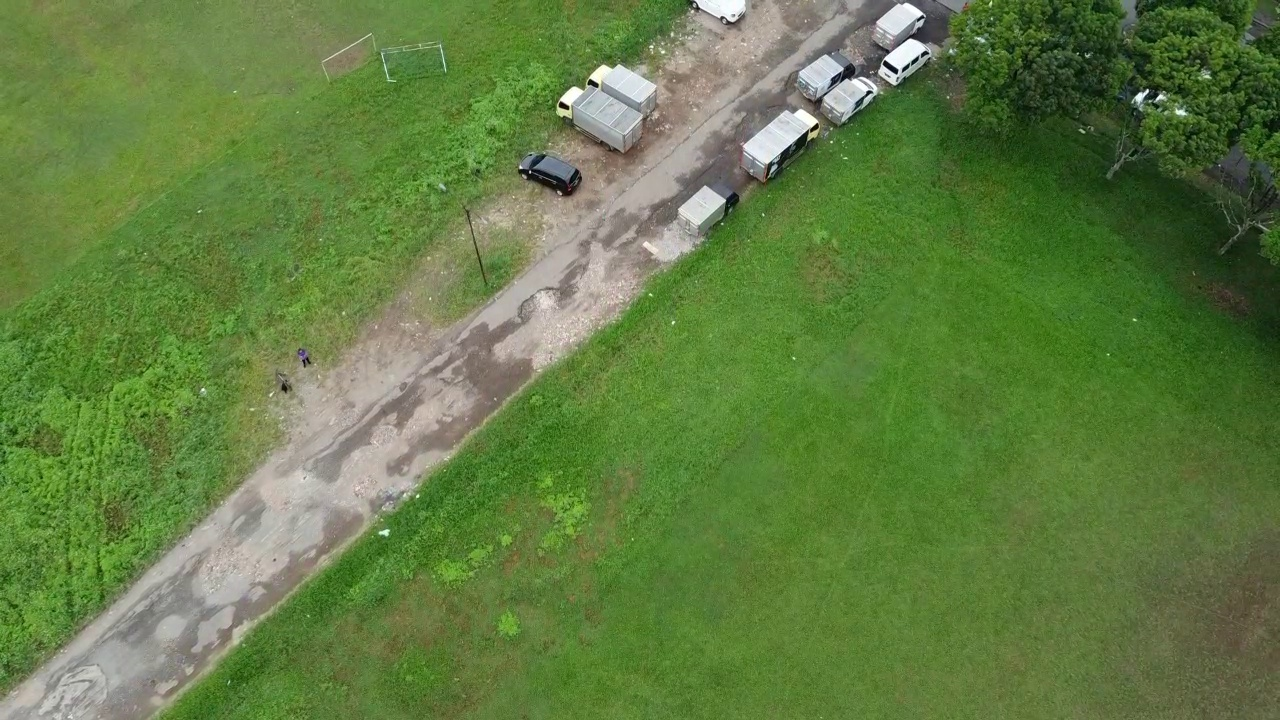mobil: (514, 148, 586, 200), (873, 41, 937, 87)
